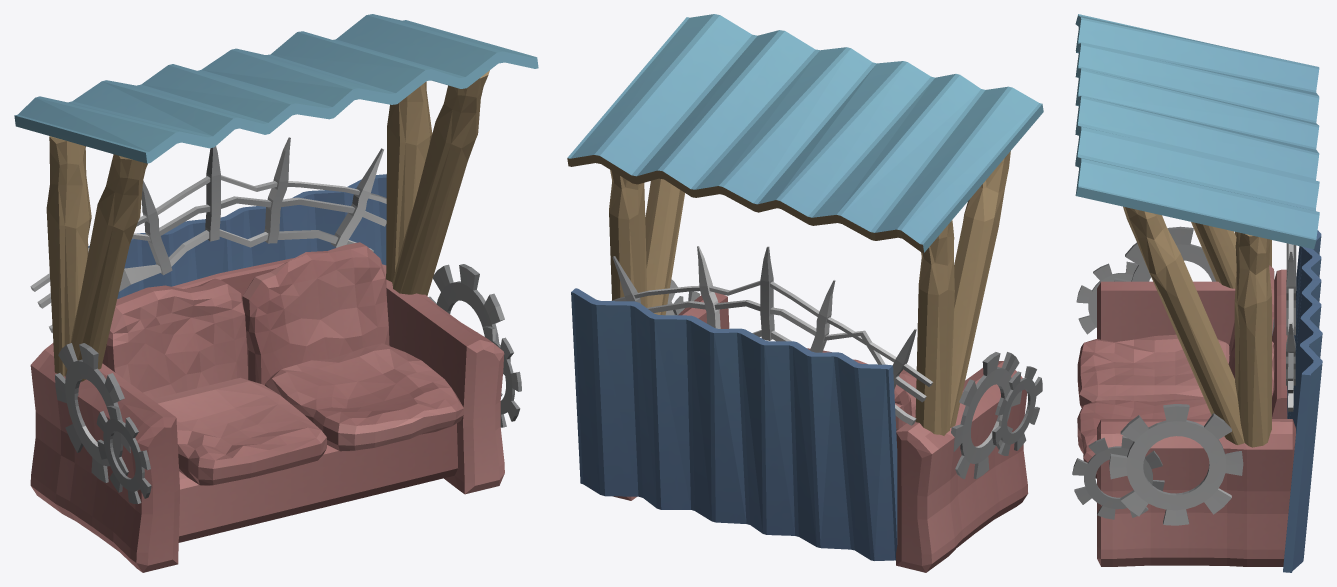
Rendered from porch_sofa.dae.
3 renders of one model, left to right at view 1: azimuth 30°, elevation 25°; view 2: azimuth 150°, elevation 25°; view 3: azimuth 270°, elevation 25°, orthographic. The views are drawn at different scales.
Visible parts, largest first — view 1: porch_sofa, roof; view 2: roof, porch_sofa; view 3: roof, porch_sofa.
Part boxes in pixels (left/top/right/bottom): porch_sofa: left=30, top=137, right=504, bottom=572; roof: left=14, top=14, right=538, bottom=504; roof: left=567, top=14, right=1043, bottom=560; porch_sofa: left=611, top=246, right=1028, bottom=572; roof: left=1072, top=14, right=1322, bottom=572; porch_sofa: left=1077, top=243, right=1296, bottom=566.
Size of the model in its own units: 1.79 by 1.09 by 1.93.
